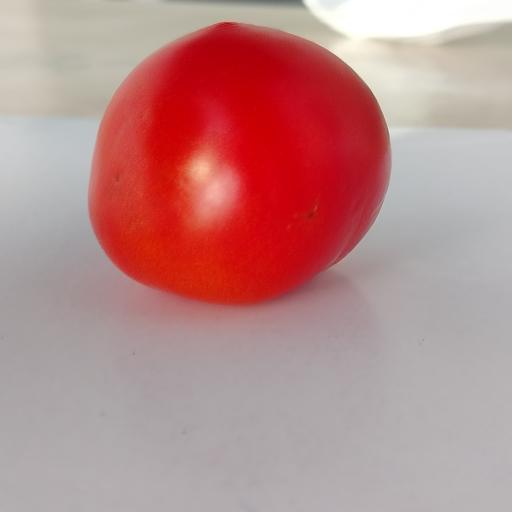ripe: (89, 23, 390, 304)
